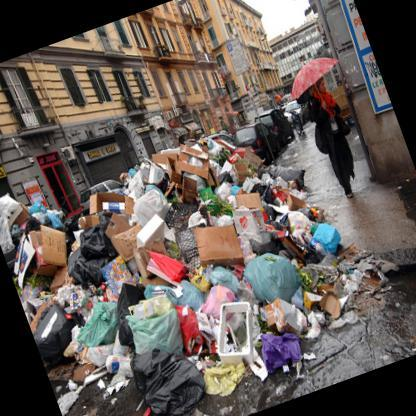Garbage: (121, 212, 381, 410), (89, 154, 270, 376), (134, 127, 302, 346), (130, 128, 304, 335), (0, 175, 140, 385), (235, 173, 323, 265)
